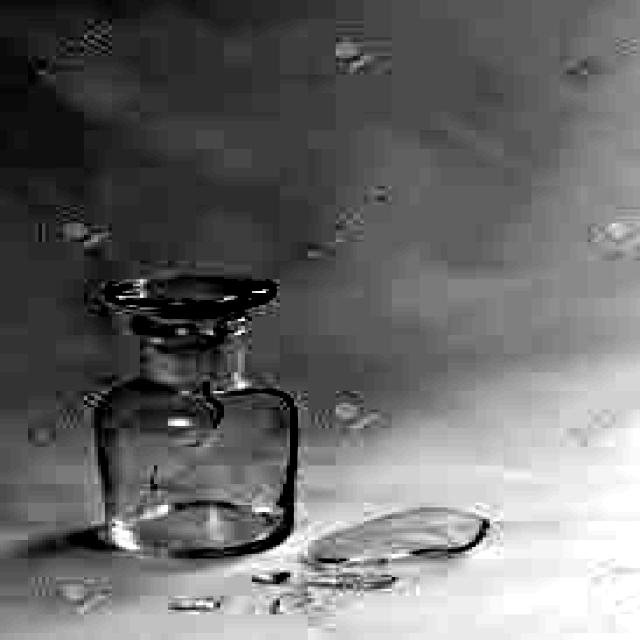Glass: (85, 268, 302, 565)
